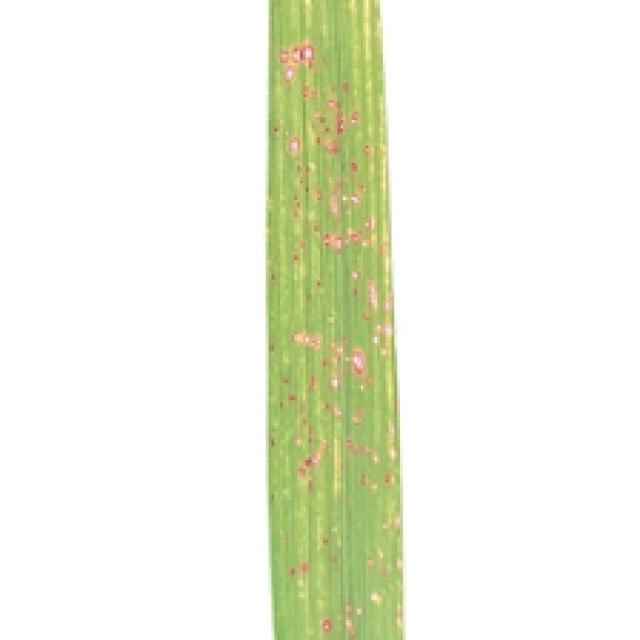Rice___Brown_Spot: (267, 0, 406, 637)
